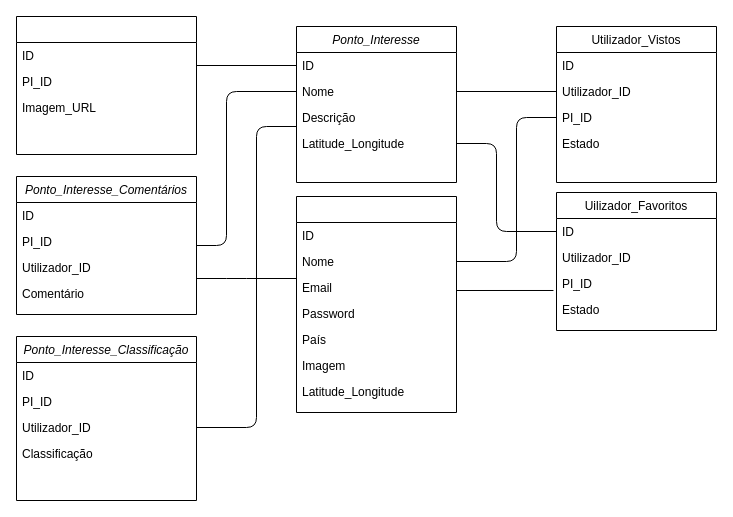
The diagram is 733 pixels wide and 517 high, and some of its shapes have lost their labels. Each missing label, with the box of its shape:
Ponto_Interesse_Imagens: (16, 16, 196, 154)
Utilizador: (296, 196, 456, 412)
